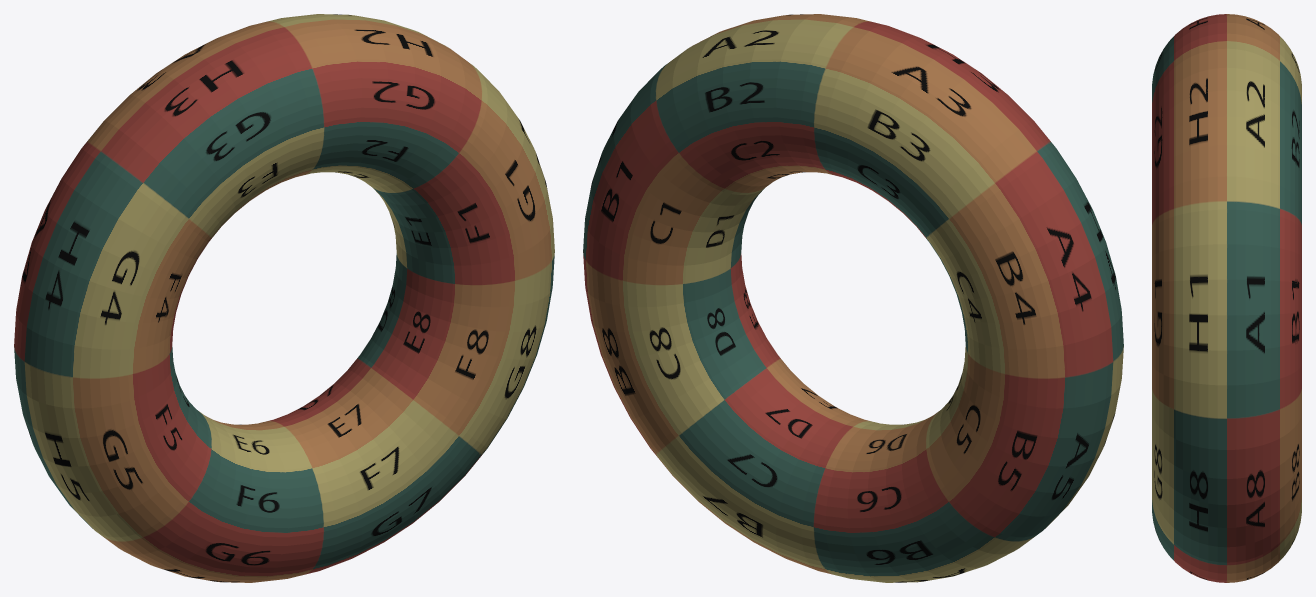
The model's file is texture_torus_R9_r14.glb.
The picture shows the model from 3 angles, left to right: view 1: azimuth 30°, elevation 25°; view 2: azimuth 150°, elevation 25°; view 3: azimuth 270°, elevation 25°; orthographic projection. The views are drawn at different scales.
Parts seen in each view (by area): view 1: world; view 2: world; view 3: world.
Boxes of the visible parts, <box> form: world: <box>14,14,554,582</box>; world: <box>583,14,1123,582</box>; world: <box>1152,14,1301,582</box>.
Bounding box in the file's own units: 21.73 × 21.69 × 5.72.
Materials: 1 (1 with a texture image).
